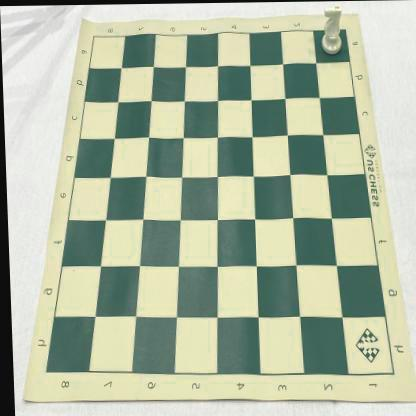white-knight: (320, 4, 342, 54)
